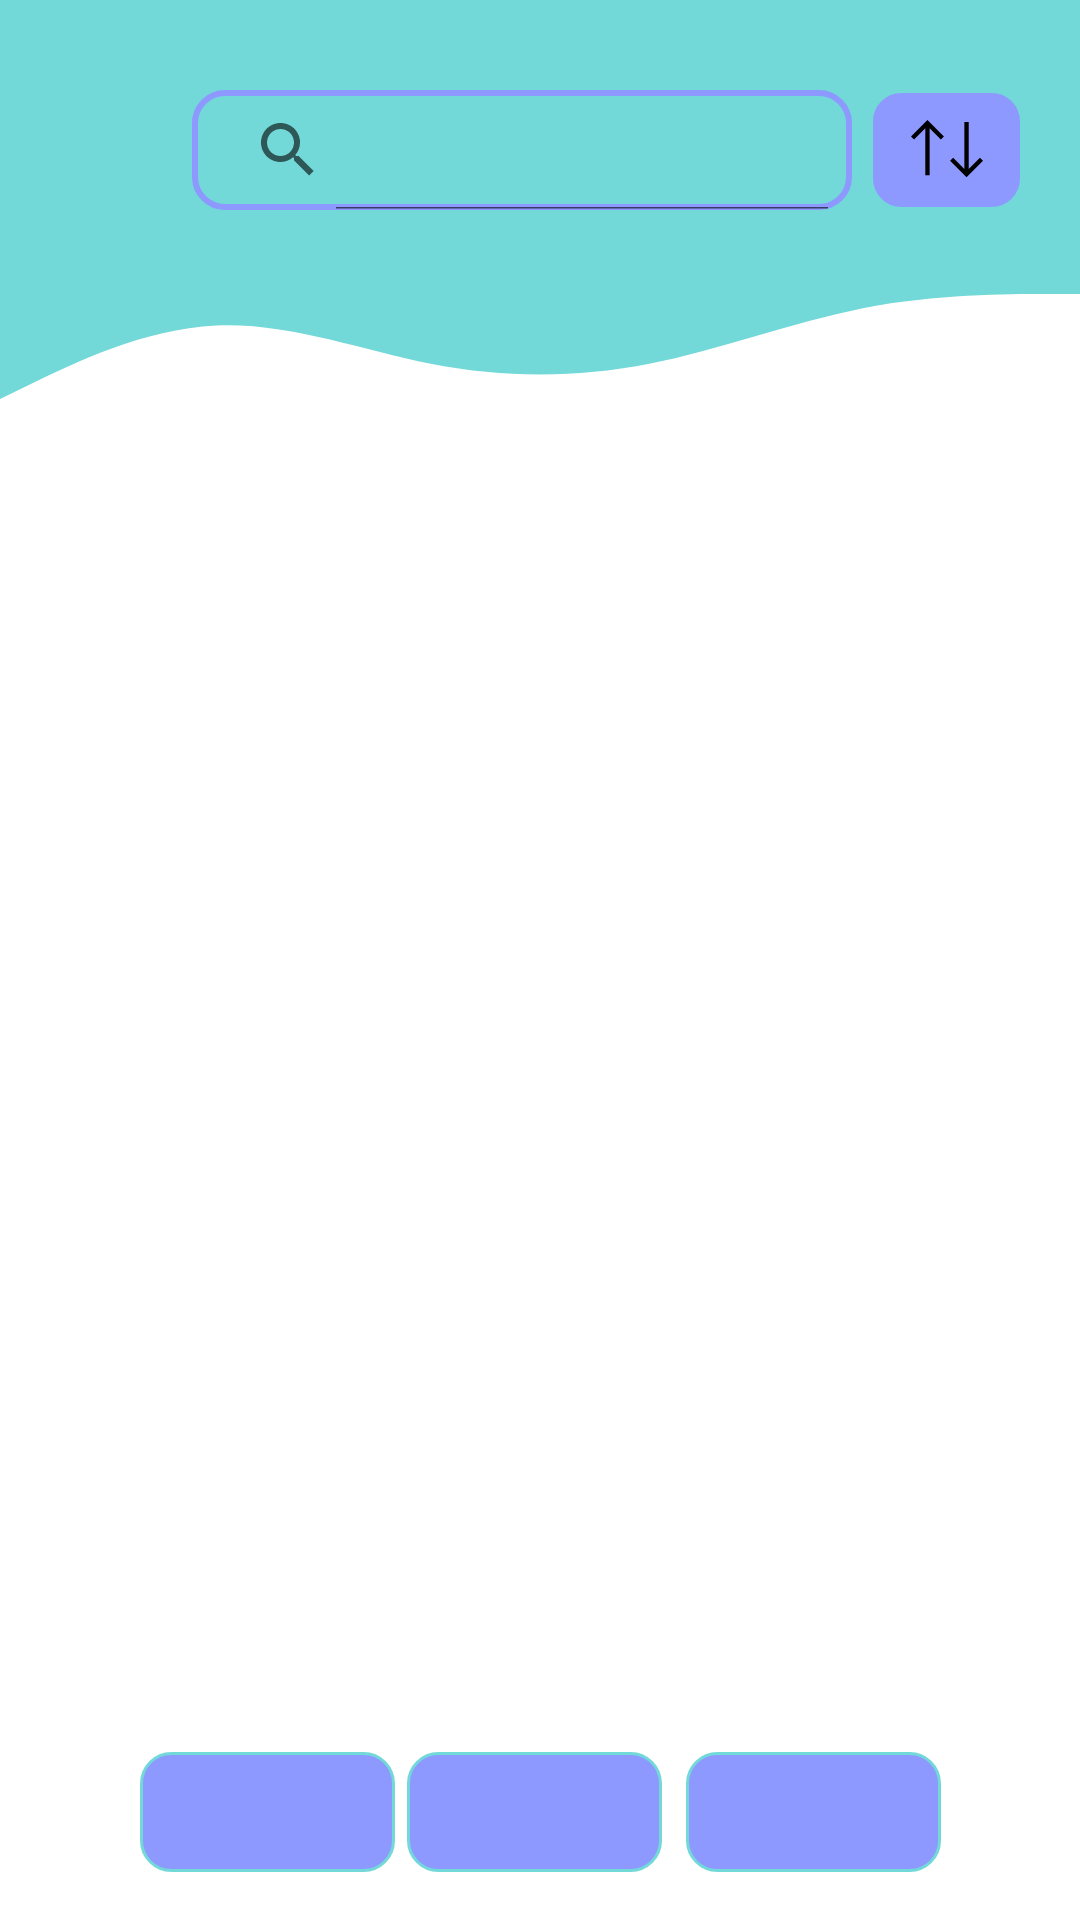

Point at icon controls on the screen. Image size 1080×1920, points as point (x, y).
Сортировка по алфавиту: point (946, 150)
